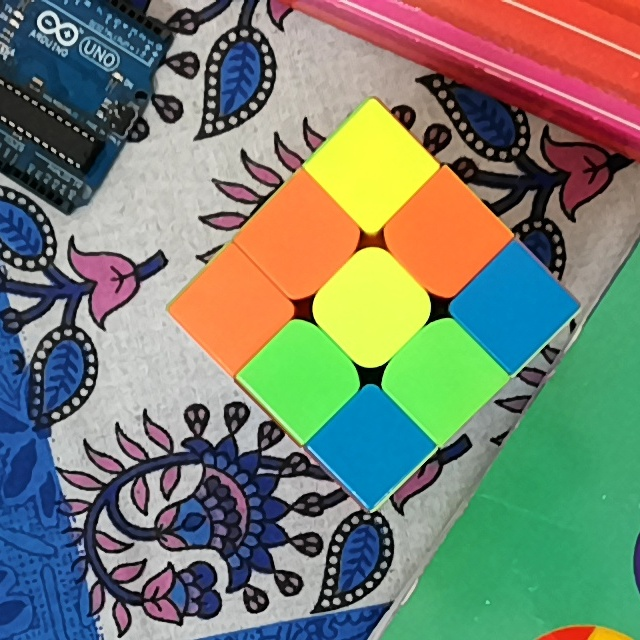tile: (266, 206, 335, 274), (412, 200, 477, 270), (338, 274, 404, 341), (196, 281, 263, 343), (338, 136, 401, 201), (411, 343, 474, 408), (486, 274, 545, 342), (272, 348, 333, 409), (342, 418, 407, 475)
